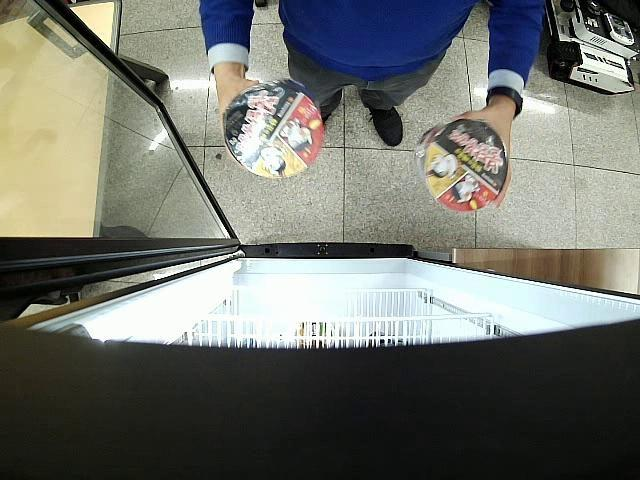07_buldak_L: (223, 82, 324, 177), (415, 120, 507, 212)
